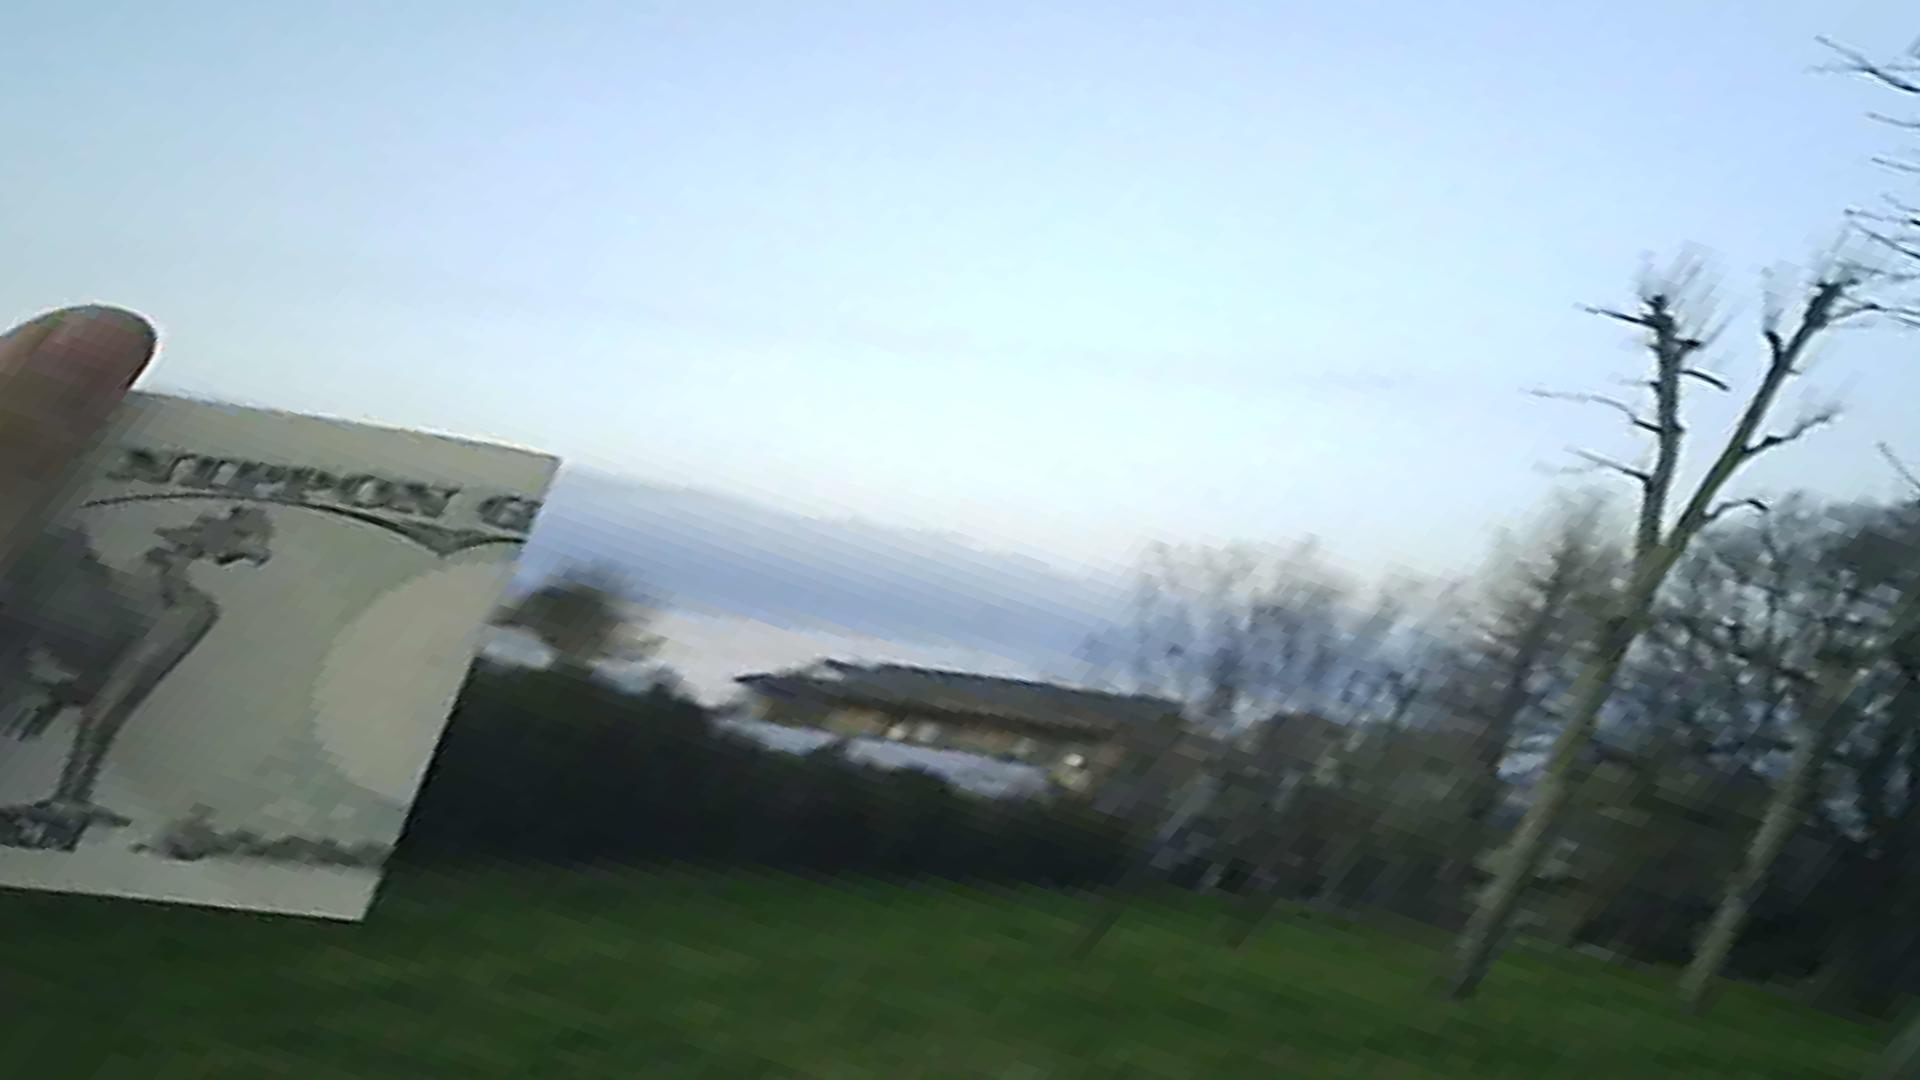10,000 Yen: (13, 363, 574, 971)
